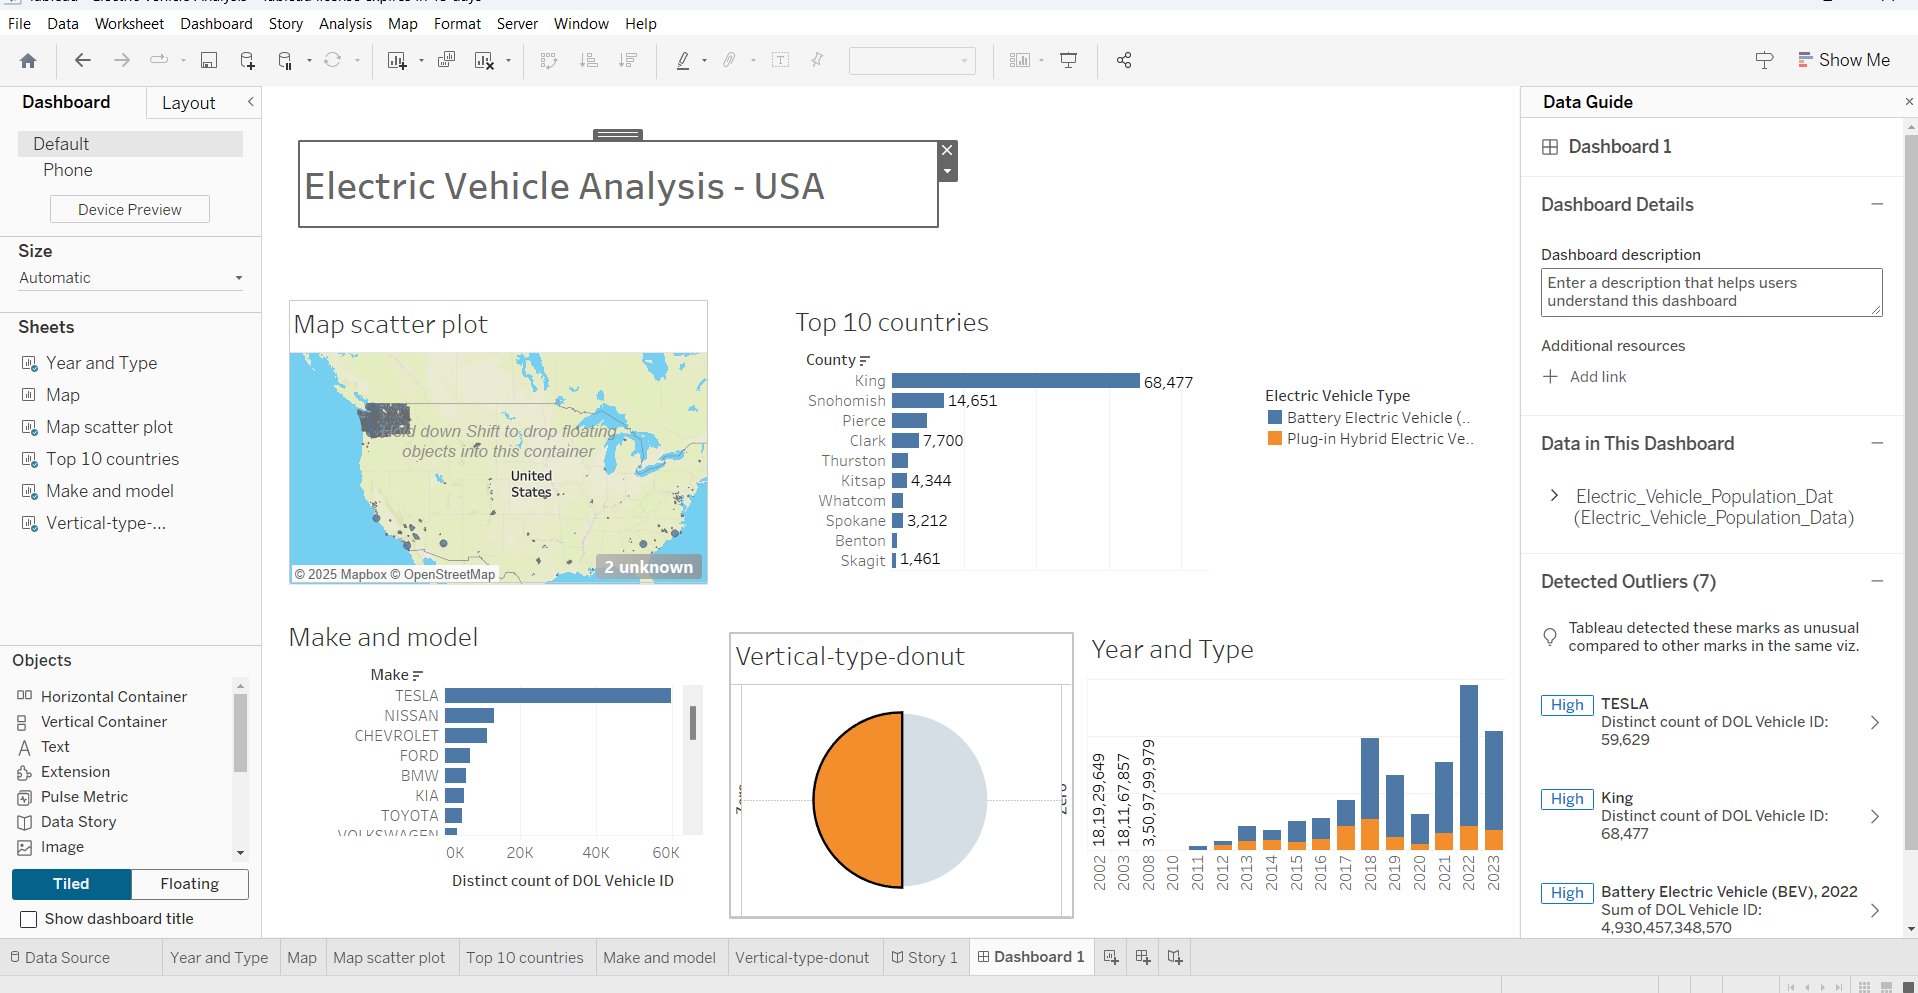

Layout of this report page (visuals, bound fields, positions):
{"tool":"tableau","page":{"name":"Dashboard 1","canvas":[1000,1000],"units":"permille","ordinal":0},"visuals":[{"type":"text","box":[30.5,65.8,387.2,98.7]},{"type":"worksheet","title":"Top 10 countries","mark":"Automatic","rows":["County"],"cols":["DOL Vehicle ID"],"box":[421.2,251.5,333.3,332.6]},{"type":"worksheet","title":"Map scatter plot","mark":"Multipolygon","box":[21.7,253.8,333.3,332.6]},{"type":"legend","title":"Vertical-type-donut","param":"[federated.1idyb370rkya5m0zrmwf619t00gz].[none:Electric Vehicle Type:nk]","box":[797.9,351.4,171.1,75.2]},{"type":"worksheet","title":"Make and model","mark":"Automatic","rows":["Make"],"cols":["DOL Vehicle ID"],"box":[17.6,621.6,333.3,332.6]},{"type":"worksheet","title":"Year and Type","mark":"Automatic","rows":["DOL Vehicle ID"],"cols":["Model Year"],"box":[656.1,635.7,333.3,332.6]},{"type":"worksheet","title":"Vertical-type-donut","mark":"Pie","rows":["Calculation_3043307485412143107","Calculation_3043307485412143107"],"box":[373.2,644,271.2,332.6]}]}

Visuals, with their boxes on the dashboard's canvas, which has no fixed pixel size, in thousandths of its width and height (x1, y1, x2, y2). These are canvas units, not pixel positions in the 1918x993 screenshot, which may show the page scaled, cropped or inside an application window:
text: x1=30 y1=66 x2=418 y2=164
"Top 10 countries" worksheet: x1=421 y1=252 x2=754 y2=584
"Map scatter plot" worksheet (Multipolygon marks): x1=22 y1=254 x2=355 y2=586
"Vertical-type-donut" legend: x1=798 y1=351 x2=969 y2=427
"Make and model" worksheet: x1=18 y1=622 x2=351 y2=954
"Year and Type" worksheet: x1=656 y1=636 x2=989 y2=968
"Vertical-type-donut" worksheet (Pie marks): x1=373 y1=644 x2=644 y2=977
